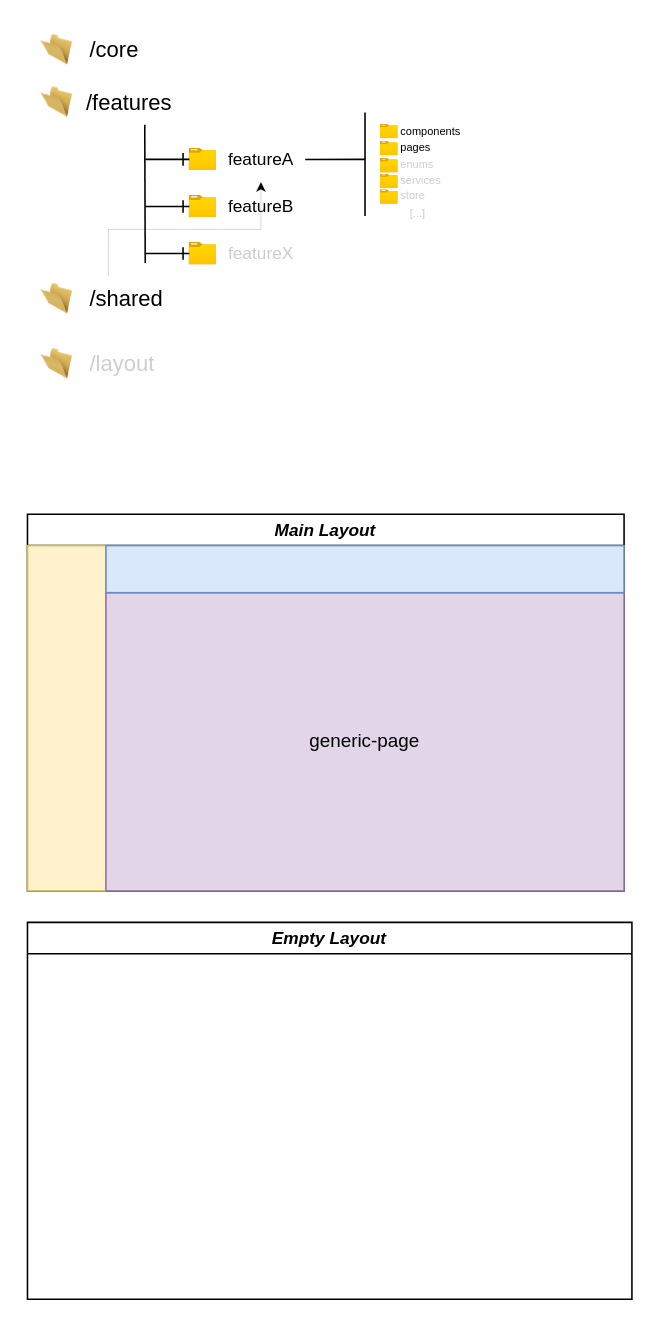
The diagram is 659 pixels wide and 1327 high, and some of its shapes have lost their labels. The centre of each missing label's shape, as x and y in pixels:
"menu" goes at (66,717).
"navigation-bar" goes at (364,568).
